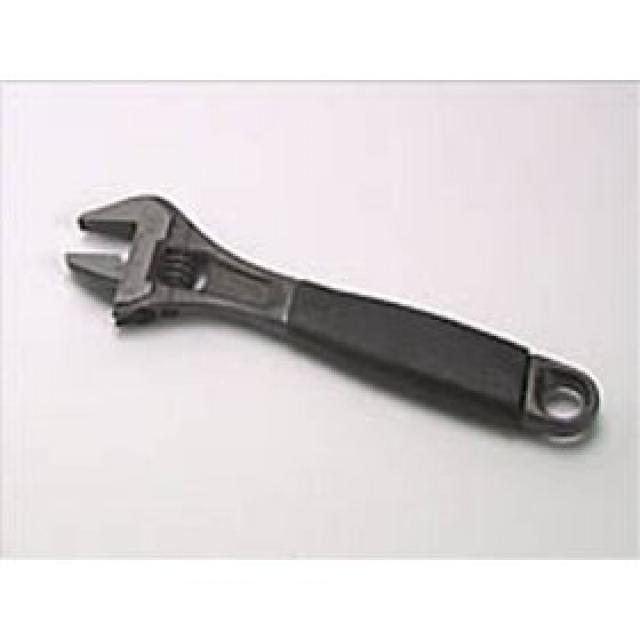wrench: (53, 186, 605, 440)
